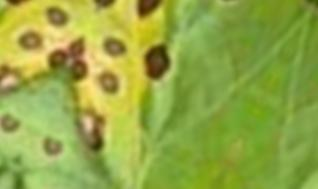Tomato Septoria leaf spot: (1, 0, 317, 189)
